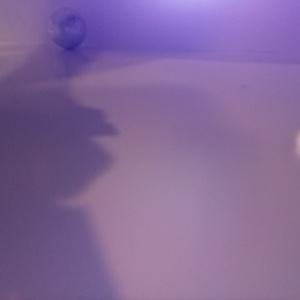alive_ball: (46, 8, 86, 49)
